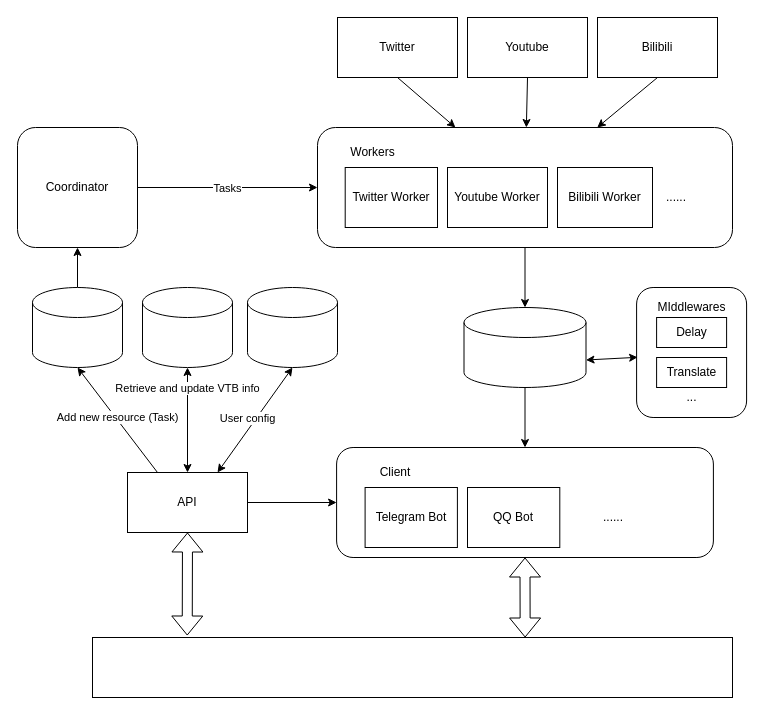
Some shapes in this 765 by 715 pixel diagram are drawn without their labels. Each missing label, with the centre of its shape:
"MongoDB Col: Tasks" belongs at (x=77, y=327).
"MongoDB Col: Users" belongs at (x=292, y=327).
"MongoDB Col:VTBs" belongs at (x=187, y=327).
"RabbitMQ" belongs at (x=524, y=347).
"Users" belongs at (x=412, y=667).
